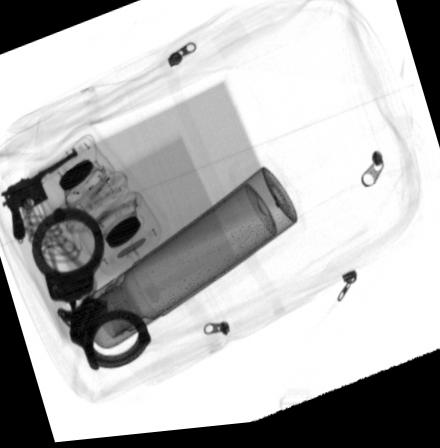Gun: (0, 147, 79, 241)
HandCuffs: (30, 205, 152, 375)
